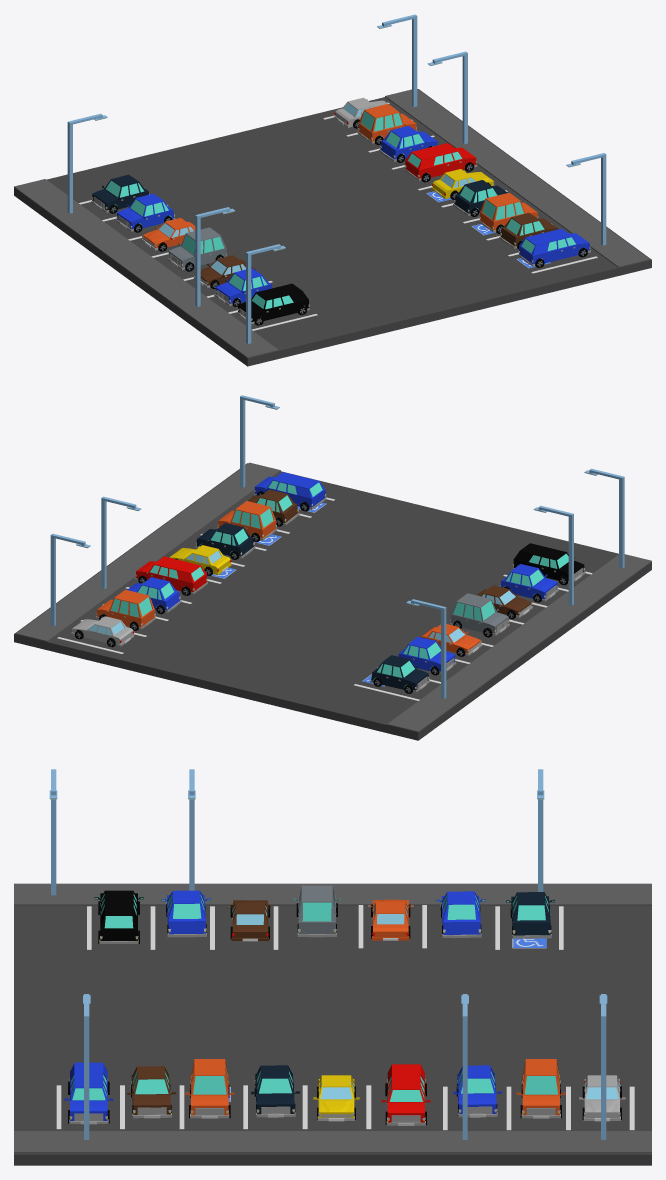
File: parking.fbx
The picture shows the model from 3 angles, top to bottom: view 1: azimuth 30°, elevation 25°; view 2: azimuth 150°, elevation 25°; view 3: azimuth 270°, elevation 25°; orthographic projection. The views are drawn at different scales.
Parts seen in each view (by area): view 1: parking_ground, car.013, car.007, car.002, car.009, car.008, car.005, car.001, car.010, car.006, car, car.015 (+12 smaller); view 2: parking_ground, car.009, car.007, car.002, car.013, car.005, car.001, car.010, car, car.012, car.004, car.008 (+12 smaller); view 3: parking_ground, car.007, car.010, car.005, car.002, car.013, car.009, car.012, car.015, car, car.008, car.001 (+15 smaller).
Part boxes in pixels (x1=…): parking_ground: x1=14, y1=89, x2=651, y2=366; car.013: x1=518, y1=228, x2=590, y2=267; car.007: x1=404, y1=143, x2=477, y2=182; car.002: x1=237, y1=283, x2=309, y2=325; car.009: x1=167, y1=227, x2=227, y2=271; car.008: x1=116, y1=193, x2=175, y2=232; car.005: x1=357, y1=104, x2=417, y2=145; car.001: x1=91, y1=174, x2=148, y2=213; car.010: x1=479, y1=192, x2=538, y2=233; car.006: x1=379, y1=125, x2=437, y2=162; car: x1=214, y1=268, x2=272, y2=306; car.015: x1=499, y1=213, x2=558, y2=249; parking_ground: x1=14, y1=462, x2=651, y2=740; car.009: x1=450, y1=593, x2=509, y2=637; car.007: x1=135, y1=556, x2=207, y2=595; car.002: x1=512, y1=543, x2=585, y2=585; car.013: x1=253, y1=472, x2=326, y2=511; car.005: x1=95, y1=589, x2=155, y2=630; car.001: x1=370, y1=655, x2=429, y2=693; car.010: x1=217, y1=501, x2=276, y2=542; car: x1=499, y1=564, x2=558, y2=602; car.012: x1=195, y1=523, x2=255, y2=559; car.004: x1=71, y1=616, x2=134, y2=647; car.008: x1=398, y1=636, x2=456, y2=675; parking_ground: x1=14, y1=883, x2=651, y2=1165; car.007: x1=381, y1=1064, x2=430, y2=1125; car.010: x1=185, y1=1059, x2=234, y2=1118; car.005: x1=516, y1=1059, x2=565, y2=1118; car.002: x1=94, y1=890, x2=143, y2=943; car.013: x1=64, y1=1062, x2=113, y2=1124; car.009: x1=292, y1=885, x2=341, y2=937; car.012: x1=251, y1=1065, x2=299, y2=1117; car.015: x1=127, y1=1066, x2=176, y2=1118; car: x1=161, y1=890, x2=210, y2=937; car.008: x1=436, y1=891, x2=485, y2=938; car.001: x1=506, y1=892, x2=554, y2=938.
Bounding box in the file's own units: 26.01 × 26 × 6.13.
Materials: 23 (1 with a texture image).
